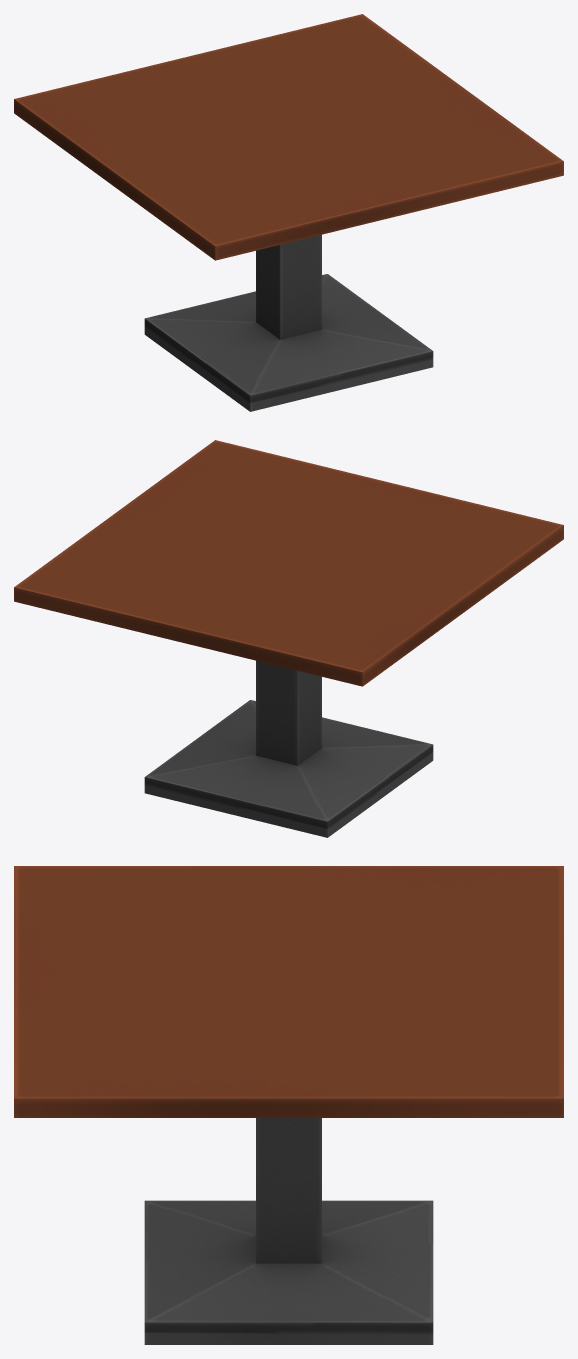
The model's file is bar_mesh.014_lev1.glb.
The picture shows the model from 3 angles, top to bottom: view 1: azimuth 30°, elevation 25°; view 2: azimuth 150°, elevation 25°; view 3: azimuth 270°, elevation 25°; orthographic projection. The views are drawn at different scales.
Parts seen in each view (by area): view 1: bar_mesh.014_lev1; view 2: bar_mesh.014_lev1; view 3: bar_mesh.014_lev1.
Part boxes in pixels (x1,y1,x2,y2): bar_mesh.014_lev1: [14, 14, 563, 411]; bar_mesh.014_lev1: [14, 440, 563, 837]; bar_mesh.014_lev1: [14, 866, 563, 1344].
Size of the model in its own units: 3.1 by 1.87 by 3.1.
Materials: 1 (1 with a texture image).
